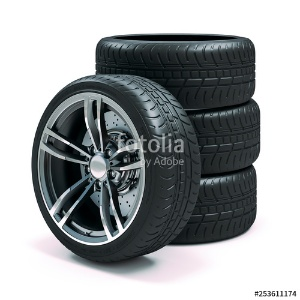tire: (31, 73, 203, 265), (96, 96, 260, 174), (99, 168, 258, 244), (94, 33, 260, 104)
